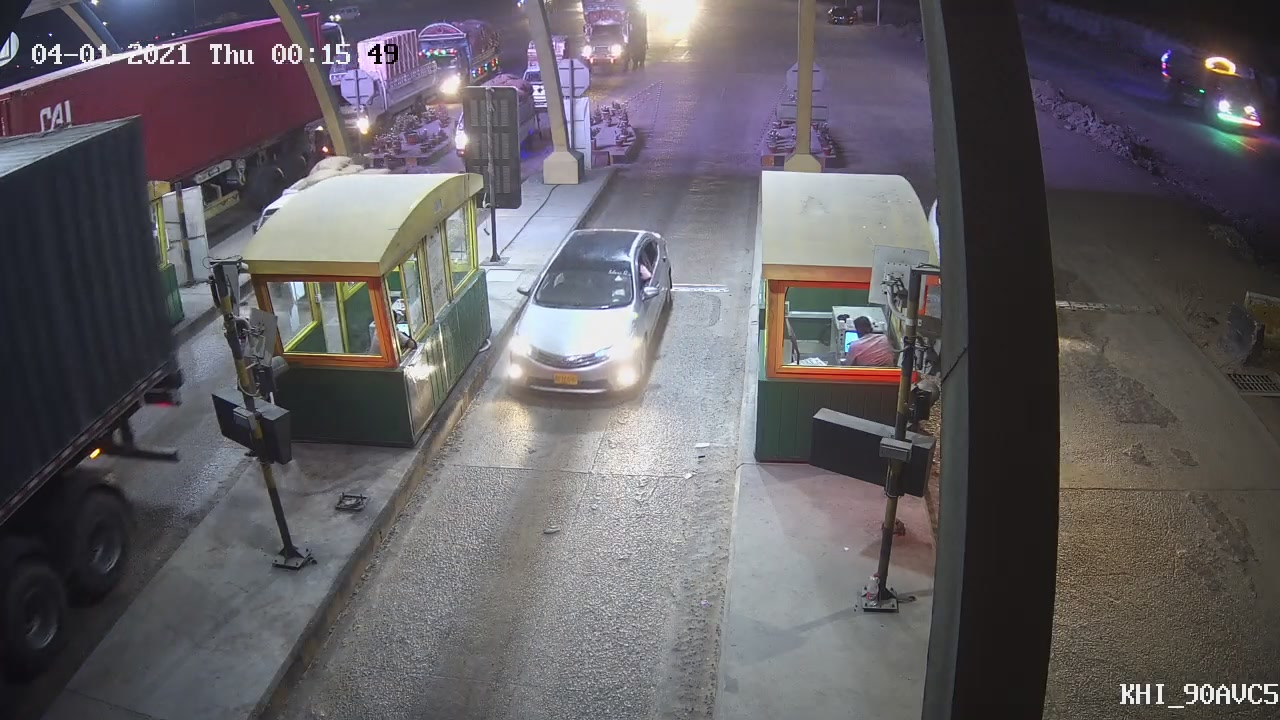F1: (498, 221, 681, 419)
